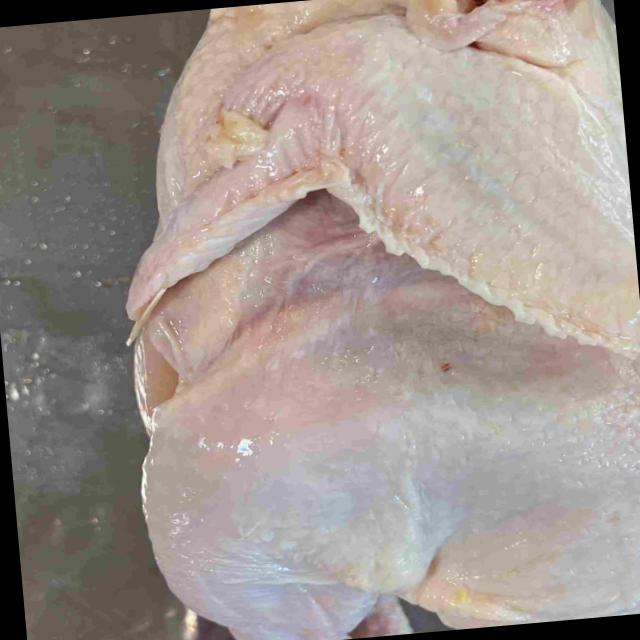leg: (149, 288, 455, 640), (350, 600, 409, 638)
neck: (412, 0, 604, 61)
wing: (124, 18, 640, 351)
